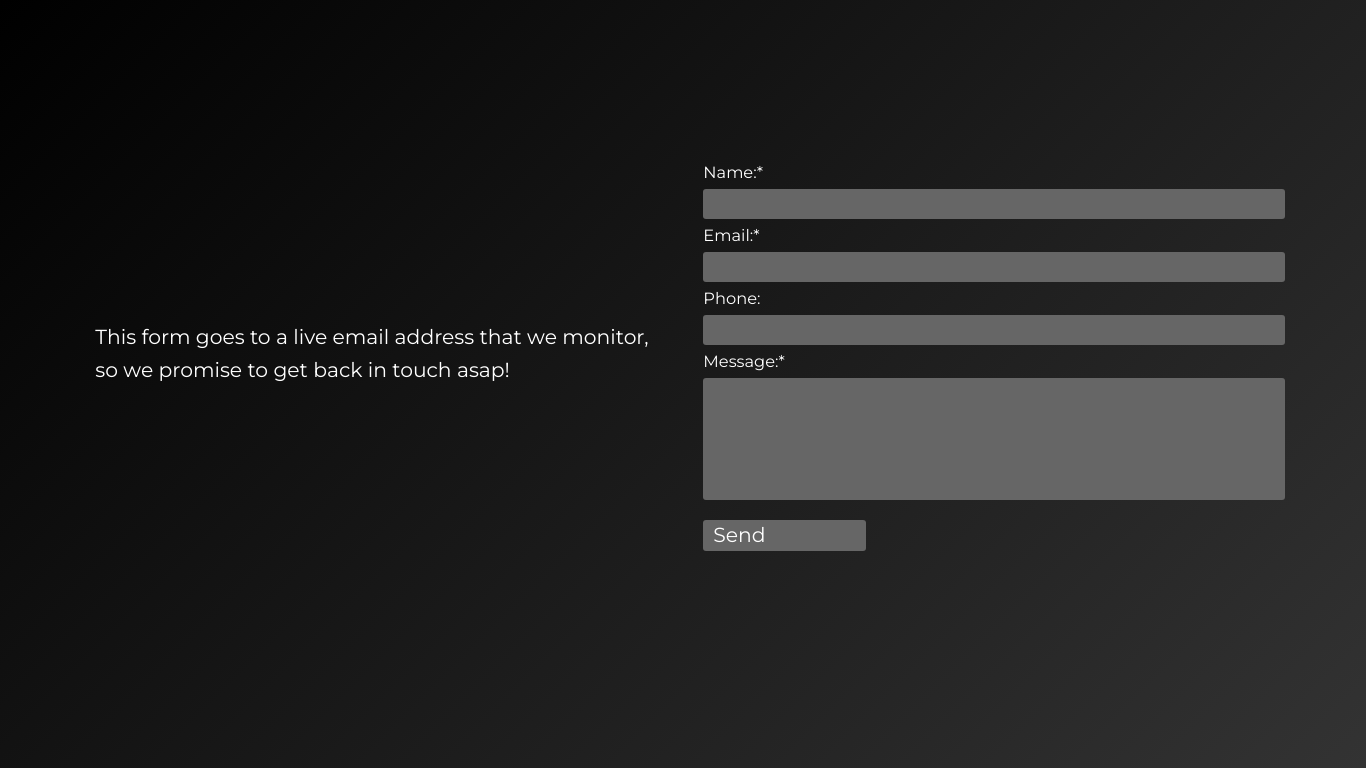
EmailForm › a successful submit shows the success state and clears the form
The image size is (1366, 768).
Type "Jane Prospect" into the field labelled "Name:*" at [994, 204], box [703, 189, 1285, 219]
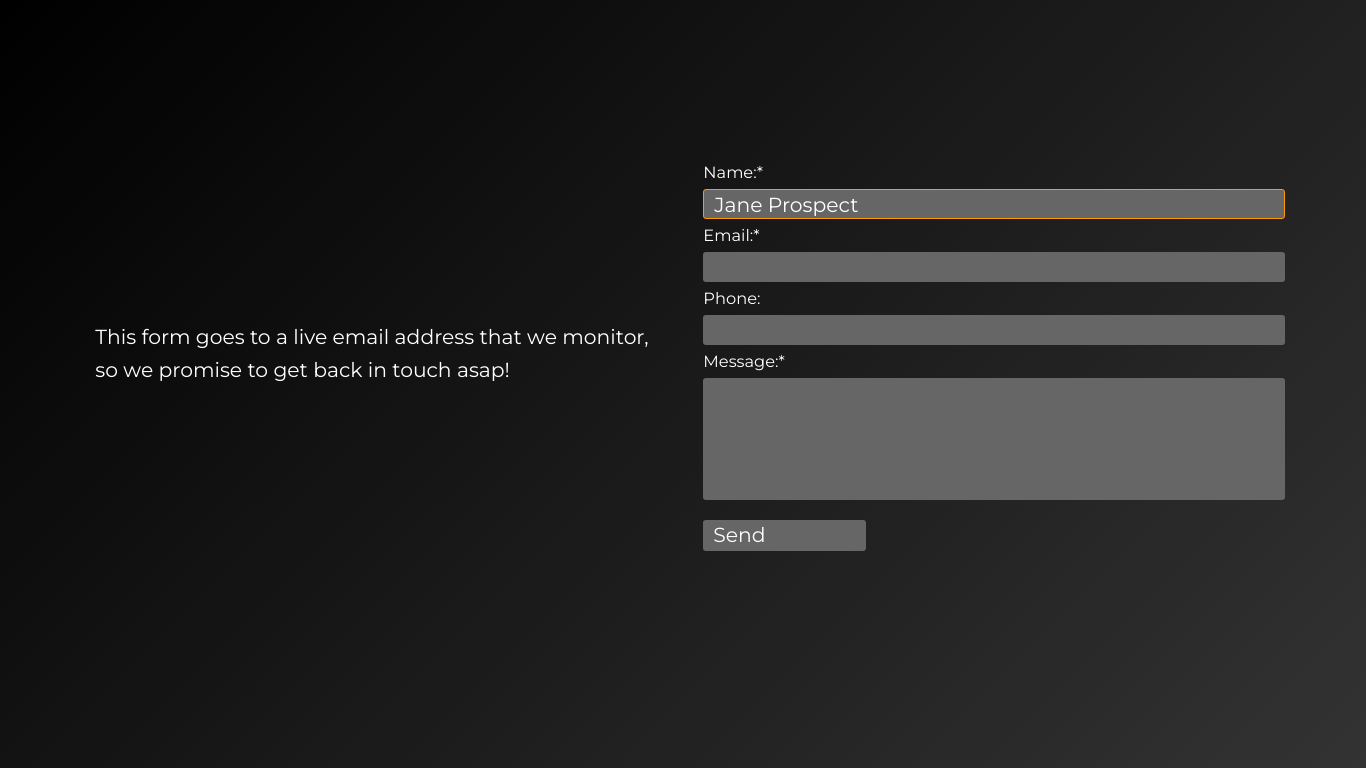
Type "jane@example.com" into the field labelled "Email:*" at [994, 267], box [703, 252, 1285, 282]
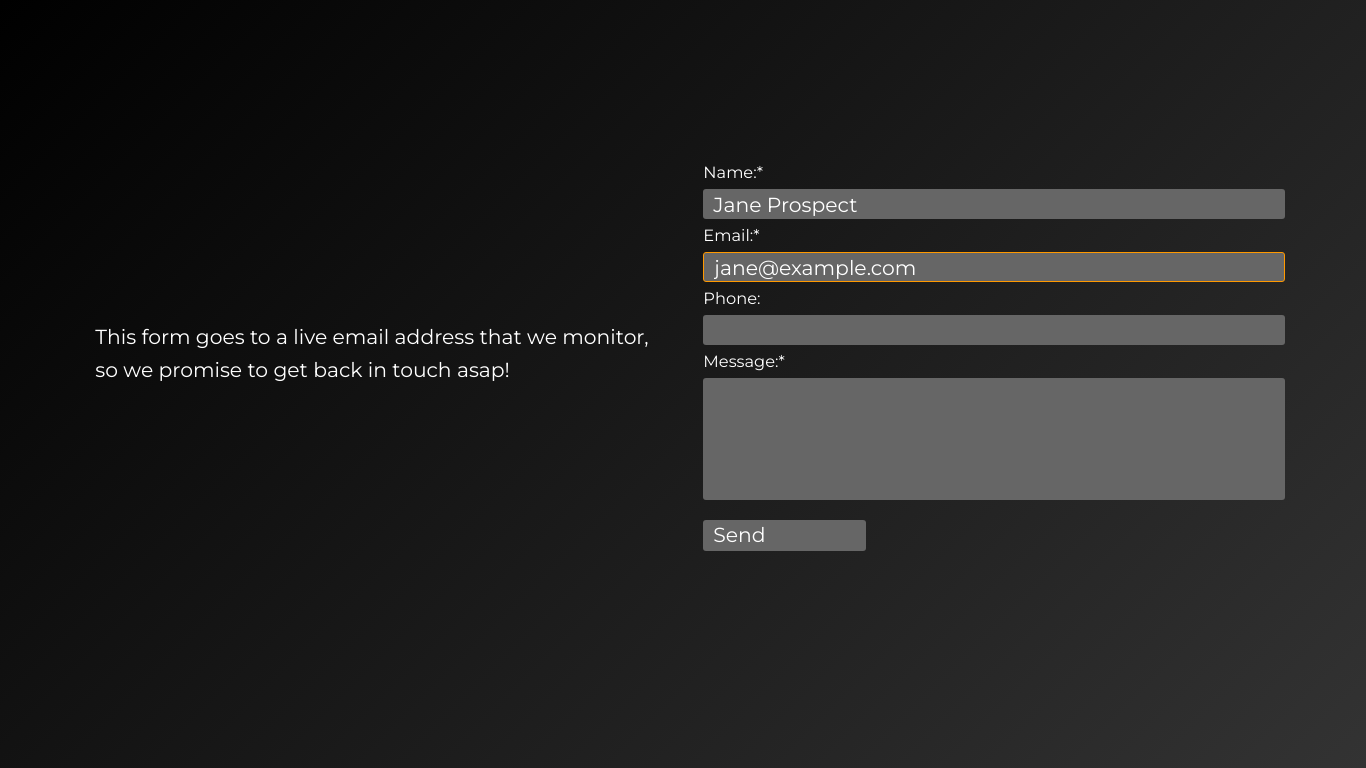
Type "Please call me back about a lighting job." into the text box labelled "Message:*" at [994, 439], box [703, 378, 1285, 500]
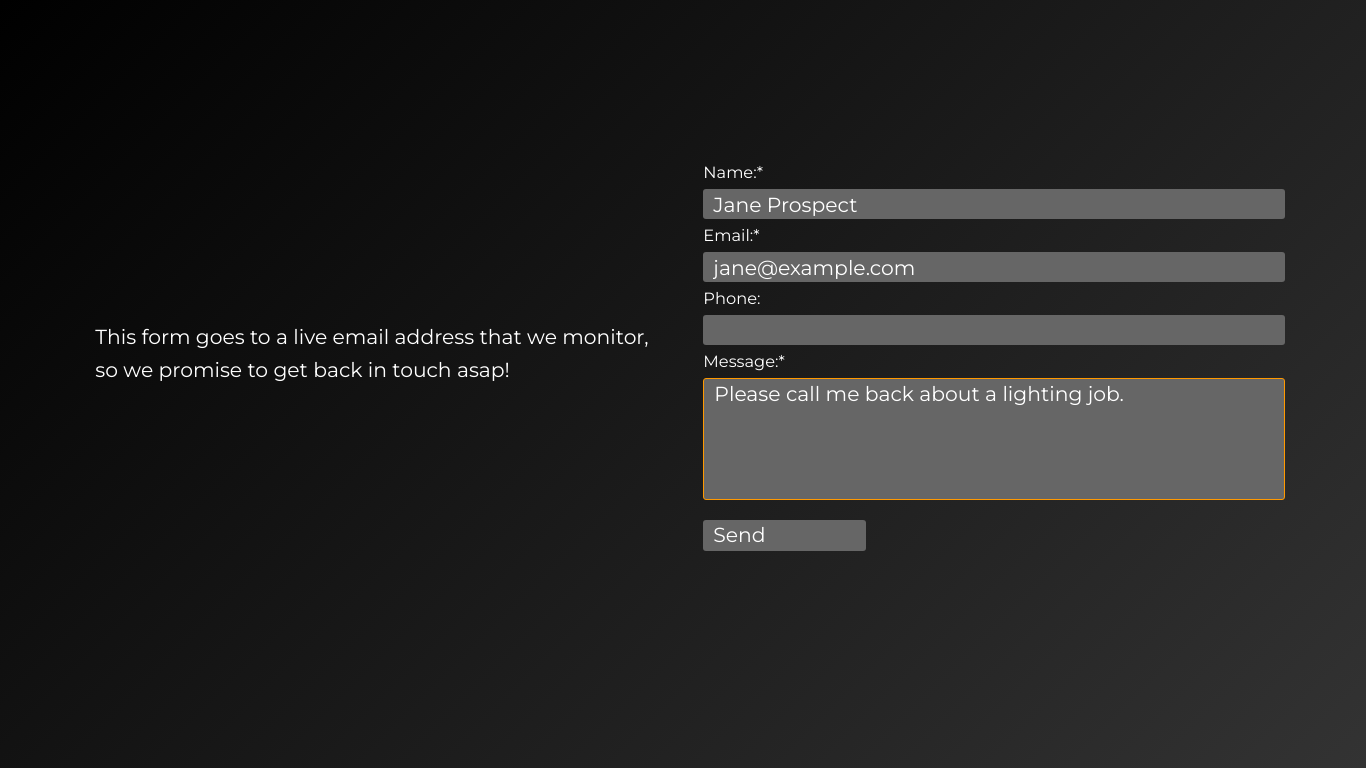
Click the button "Send" at [785, 535], box [703, 520, 866, 551]
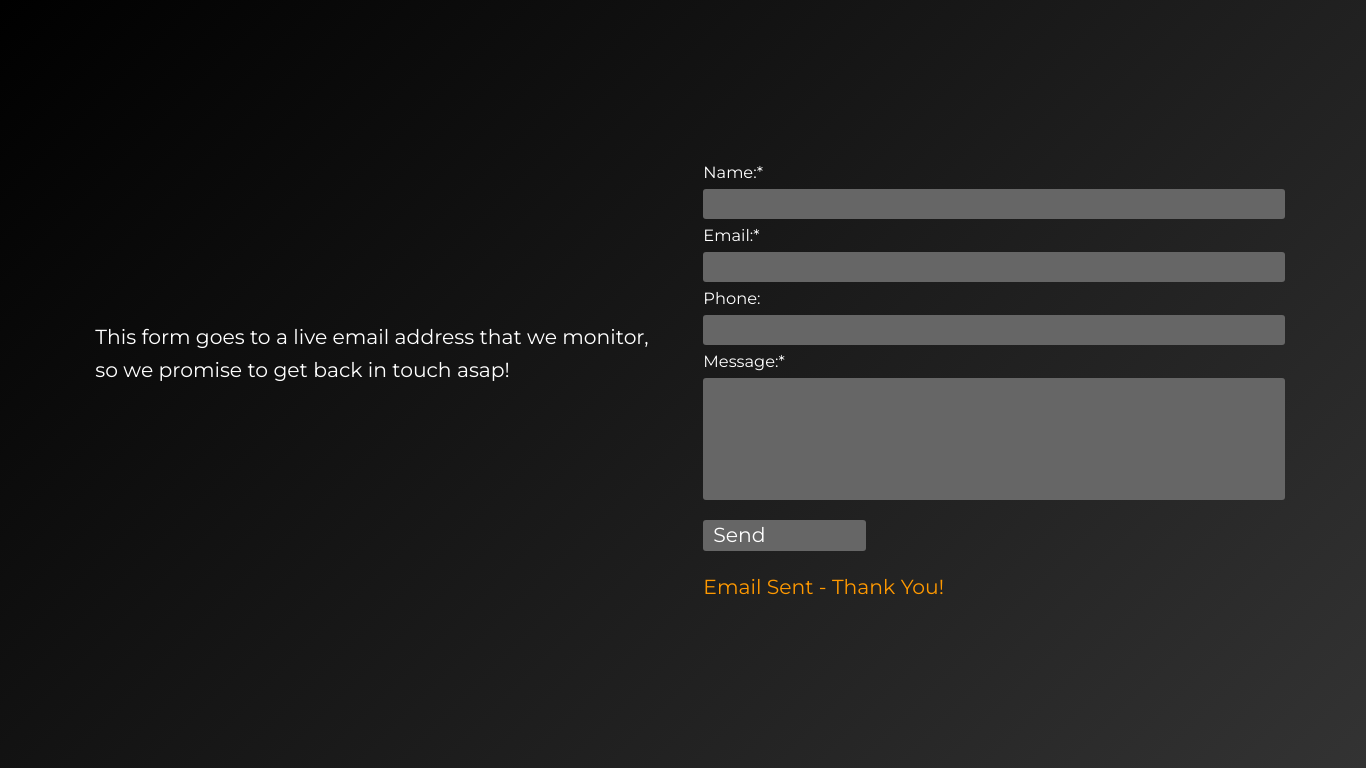
Expected: the text "Email Sent - Thank You!" is shown, [703, 574, 944, 599]
